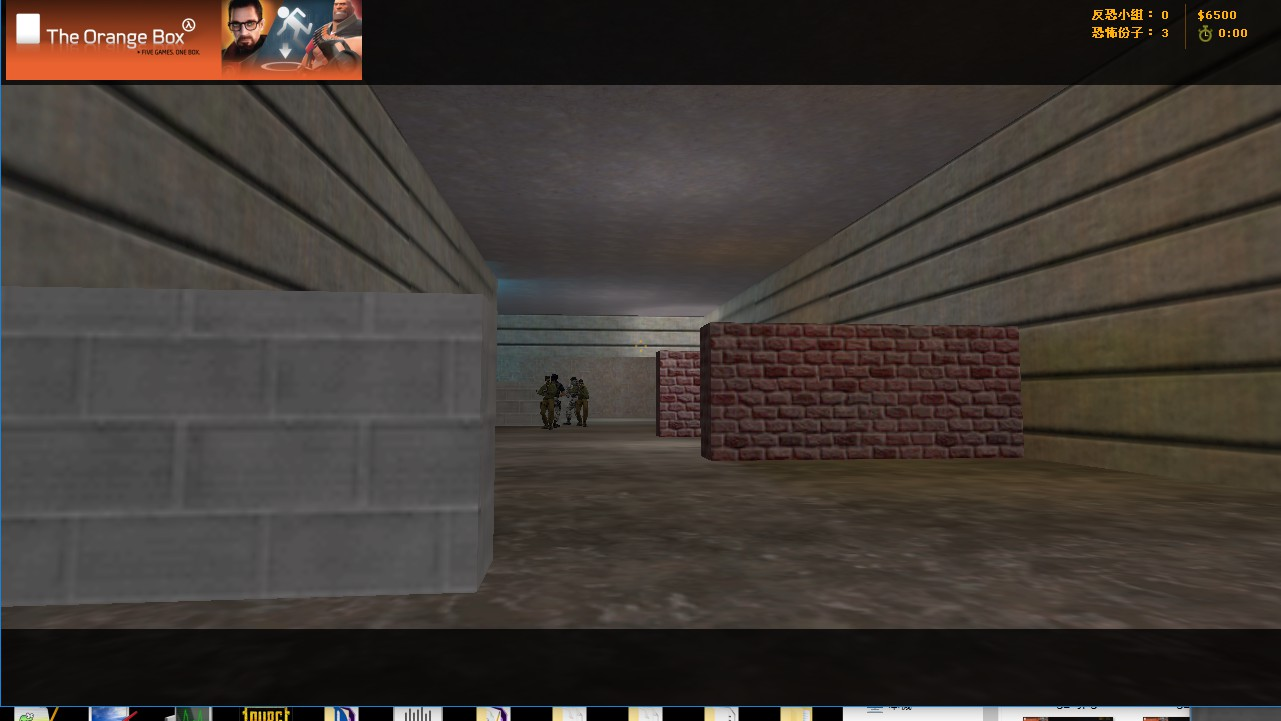person: (573, 378, 592, 428), (538, 376, 555, 430)
